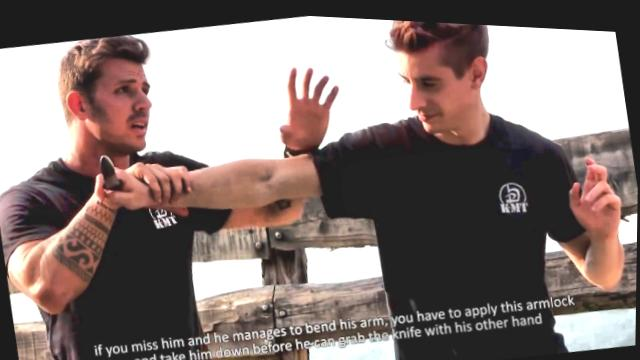knife: (88, 144, 133, 210)
